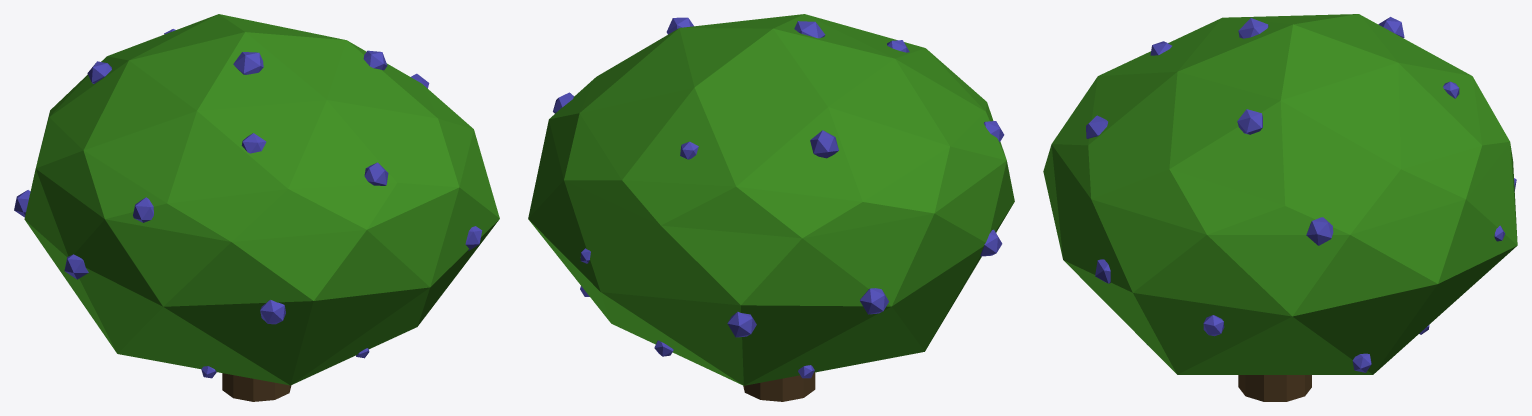
Rendered from BushV2.fbx.
3 views of the same model, side by side, from view 1: azimuth 30°, elevation 25°; view 2: azimuth 150°, elevation 25°; view 3: azimuth 270°, elevation 25° (orthographic). The views are drawn at different scales.
Visible parts, largest first — view 1: Icosphere, Cylinder; view 2: Icosphere, Cylinder; view 3: Icosphere, Cylinder.
Boxes of the visible parts, bbox=[...] form: Icosphere: bbox=[14, 14, 499, 385]; Cylinder: bbox=[222, 373, 291, 401]; Icosphere: bbox=[528, 14, 1014, 385]; Cylinder: bbox=[743, 372, 815, 401]; Icosphere: bbox=[1043, 14, 1517, 374]; Cylinder: bbox=[1238, 375, 1311, 401].
Size of the model in its own units: 154 by 126 by 150.
